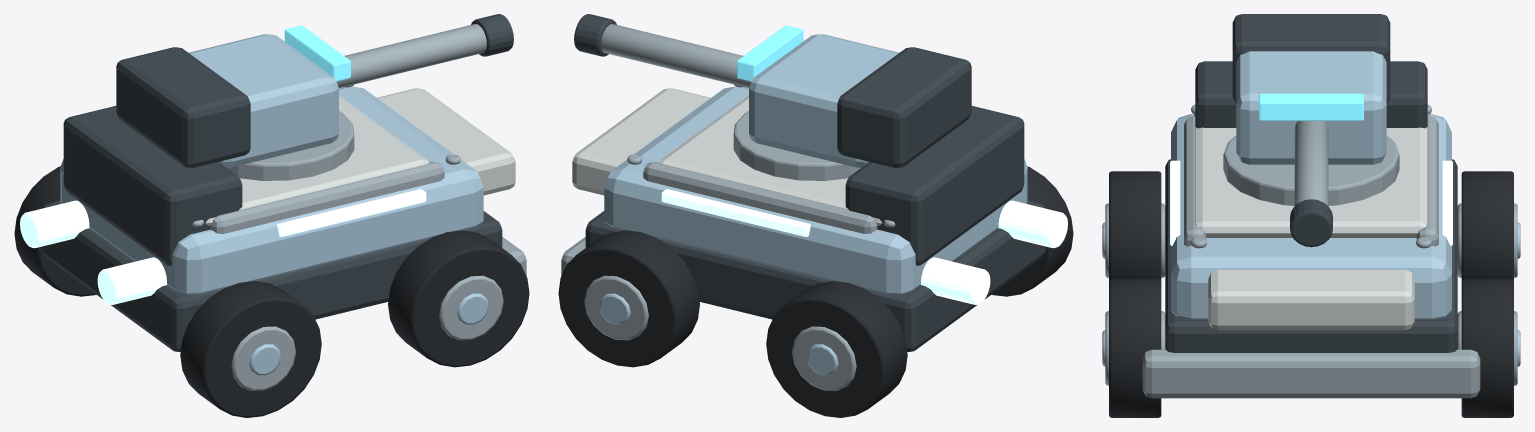
Rendered from robot-scout.glb.
3 renders of one model, left to right at view 1: azimuth 30°, elevation 25°; view 2: azimuth 150°, elevation 25°; view 3: azimuth 270°, elevation 25°, orthographic. The views are drawn at different scales.
Parts seen in each view (by area): view 1: Chassis_GraphiteArmor, ArmorHull, AmmoContainer, WheelTire, WheelTire.002, TurretHousing, Chassis_CeramicPanels, Chassis_TeamGlow, Chassis_BrushedTitanium, Barrel, TurretBearing, WheelTire.001 (+6 smaller); view 2: Chassis_GraphiteArmor, ArmorHull, AmmoContainer, WheelTire.001, WheelTire.003, TurretHousing, Chassis_CeramicPanels, Chassis_TeamGlow, Chassis_BrushedTitanium, Barrel, TurretBearing, WheelTire (+6 smaller); view 3: Chassis_CeramicPanels, Chassis_BrushedTitanium, Chassis_GraphiteArmor, ArmorHull, TurretHousing, AmmoContainer, WheelTire.003, WheelTire.002, WheelTire.001, WheelTire, TurretBearing, SensorPanel (+7 smaller).
Part boxes in pixels (box(x1,y1,x2,y2)): Chassis_GraphiteArmor: box(41, 106, 502, 351); ArmorHull: box(60, 86, 483, 294); AmmoContainer: box(116, 47, 250, 167); WheelTire: box(180, 281, 321, 417); WheelTire.002: box(388, 230, 529, 367); TurretHousing: box(188, 34, 338, 167); Chassis_CeramicPanels: box(205, 88, 515, 225); Chassis_TeamGlow: box(20, 189, 426, 304); Chassis_BrushedTitanium: box(192, 84, 526, 275); Barrel: box(336, 24, 486, 87); TurretBearing: box(227, 111, 354, 180); WheelTire.001: box(14, 166, 96, 296); Chassis_GraphiteArmor: box(585, 106, 1046, 351); ArmorHull: box(604, 86, 1027, 294); AmmoContainer: box(837, 47, 971, 167); WheelTire.001: box(766, 281, 907, 417); WheelTire.003: box(558, 230, 699, 367); TurretHousing: box(749, 34, 899, 167); Chassis_CeramicPanels: box(572, 88, 882, 225); Chassis_TeamGlow: box(661, 189, 1067, 304); Chassis_BrushedTitanium: box(561, 84, 895, 275); Barrel: box(601, 24, 751, 87); TurretBearing: box(733, 111, 860, 180); WheelTire: box(991, 166, 1073, 296); Chassis_CeramicPanels: box(1194, 113, 1428, 330); Chassis_BrushedTitanium: box(1142, 105, 1480, 398); Chassis_GraphiteArmor: box(1165, 61, 1457, 352); ArmorHull: box(1171, 114, 1451, 319); TurretHousing: box(1236, 51, 1386, 164); AmmoContainer: box(1232, 14, 1390, 103); WheelTire.003: box(1461, 279, 1513, 417); WheelTire.002: box(1109, 279, 1161, 417); WheelTire.001: box(1461, 171, 1513, 280); WheelTire: box(1109, 171, 1161, 280); TurretBearing: box(1223, 135, 1399, 205); SensorPanel: box(1259, 93, 1363, 120).
Bounding box in the file's own units: 1.22 × 0.708 × 0.9478.
